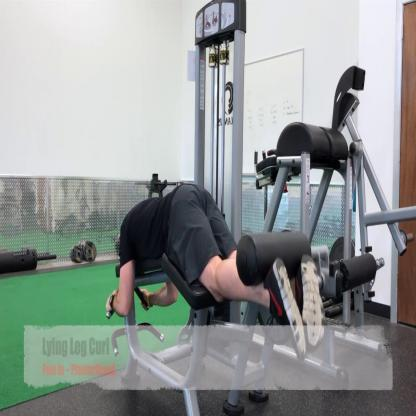reg curl machine: (105, 0, 377, 413)
